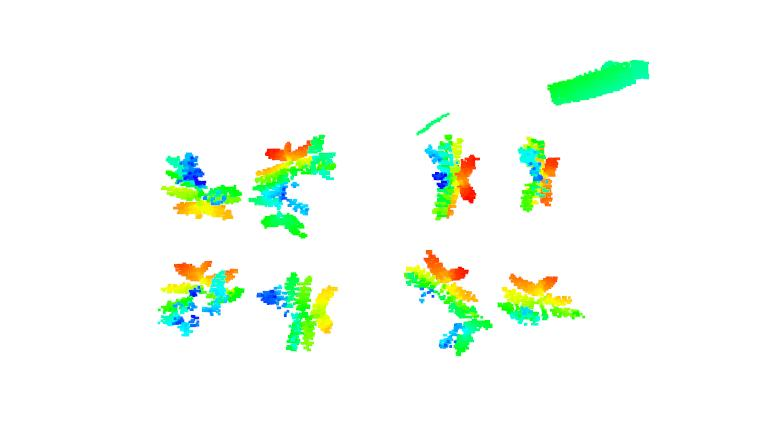chickpea: (403, 250, 498, 360), (248, 133, 337, 237), (155, 259, 247, 337), (258, 274, 340, 352), (159, 150, 243, 220), (424, 133, 480, 221), (500, 272, 586, 327), (515, 133, 559, 212)
